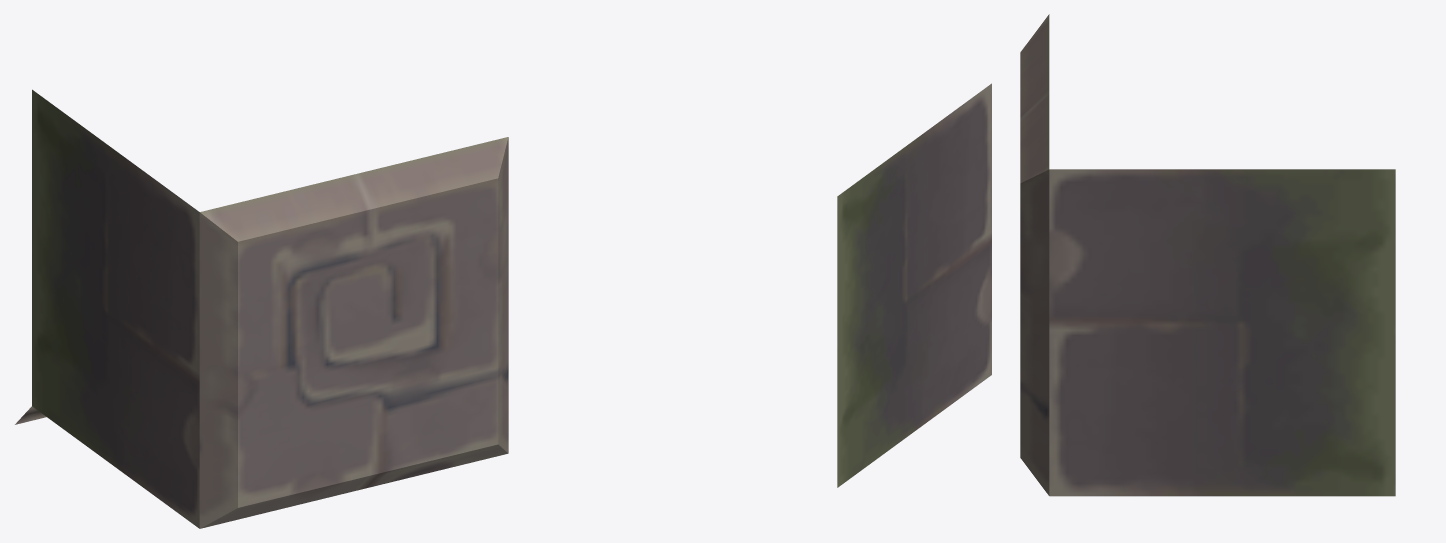
The picture shows the model from 3 angles, left to right: view 1: azimuth 30°, elevation 25°; view 2: azimuth 150°, elevation 25°; view 3: azimuth 270°, elevation 25°; orthographic projection. The views are drawn at different scales.
Parts seen in each view (by area): view 1: A:\.Yandex.YandexDisk.SK SHARED FILES.Game models.1 Exported; view 2: A:\.Yandex.YandexDisk.SK SHARED FILES.Game models.1 Exported; view 3: A:\.Yandex.YandexDisk.SK SHARED FILES.Game models.1 Exported.
Part boxes in pixels (box(x1,y1,x2,y2)): A:\.Yandex.YandexDisk.SK SHARED FILES.Game models.1 Exported: box(15, 89, 508, 528); A:\.Yandex.YandexDisk.SK SHARED FILES.Game models.1 Exported: box(837, 83, 991, 487); A:\.Yandex.YandexDisk.SK SHARED FILES.Game models.1 Exported: box(1020, 14, 1395, 496).
Size of the model in its own units: 1.02 by 1.1 by 1.14.
Materials: 1 (1 with a texture image).
